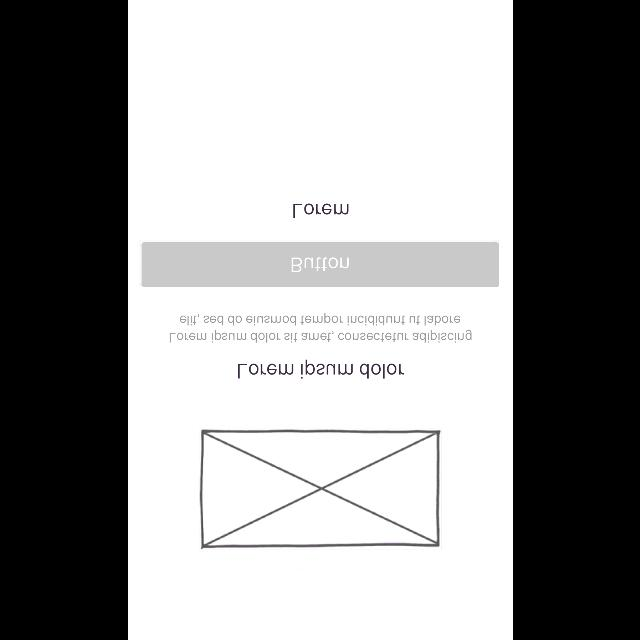image: (198, 429, 440, 549)
text: (169, 313, 471, 343), (238, 359, 404, 378), (292, 204, 348, 218)
textbutton: (141, 242, 499, 288)
